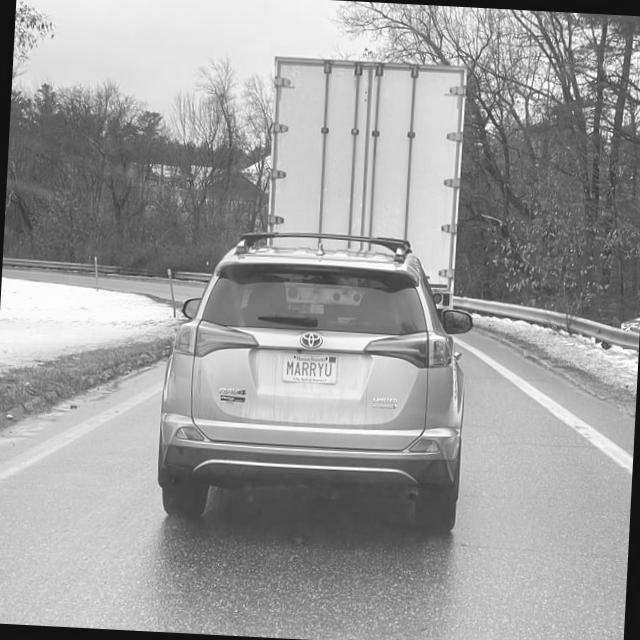LicensePlate: (281, 351, 339, 385)
